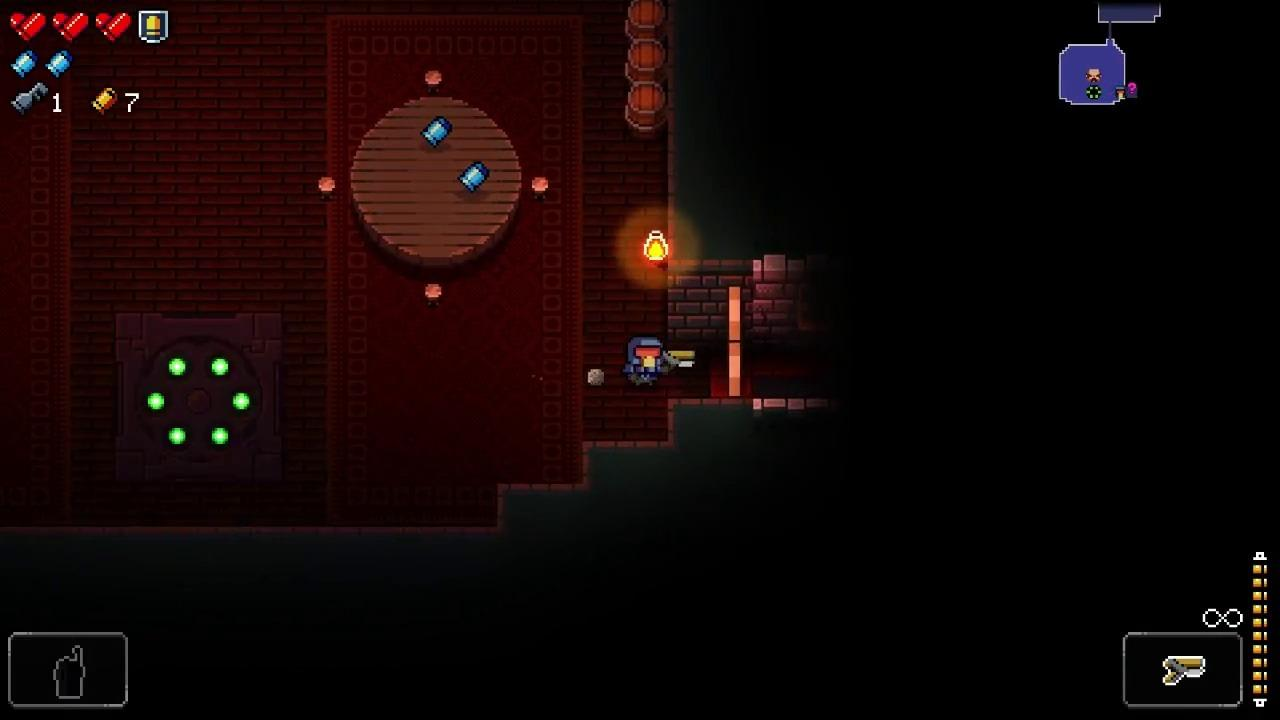player: (625, 337, 666, 388)
teleporter: (114, 310, 285, 487)
unlocked_door: (727, 286, 743, 401)
